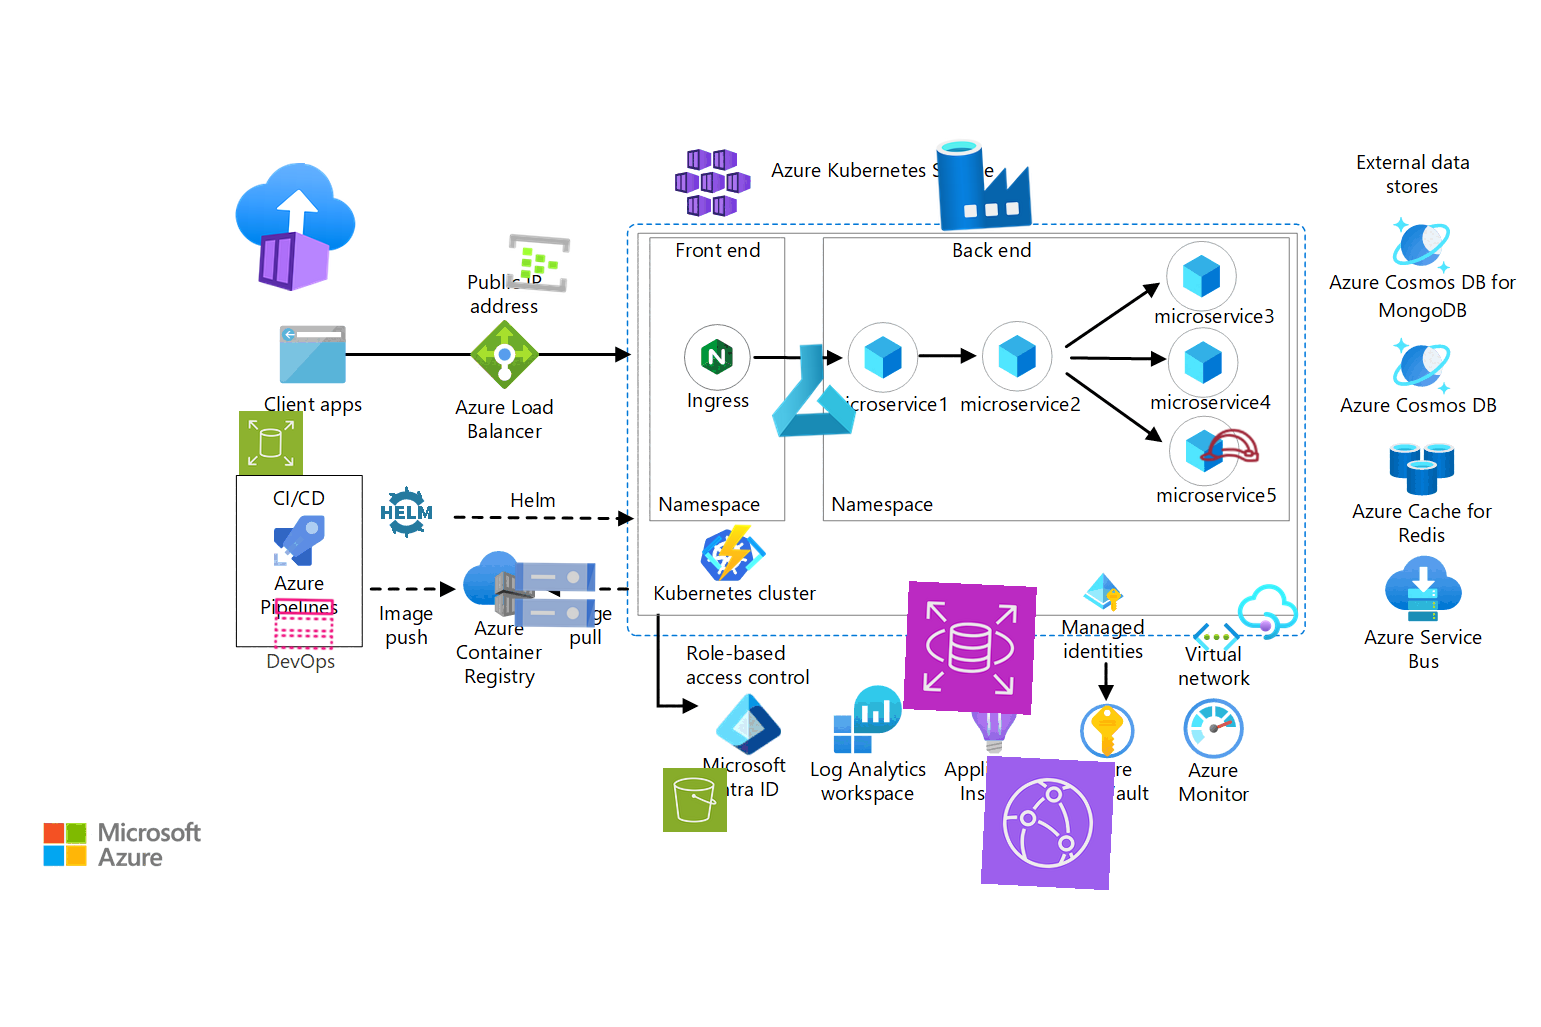aws_amazon_cloudfront: (980, 755, 1116, 891)
aws_amazon_elastic_block_store: (238, 410, 304, 476)
aws_amazon_rds: (903, 581, 1037, 715)
aws_amazon_simple_storage_service: (662, 767, 728, 833)
aws_identity_access_management_role: (1196, 411, 1264, 480)
aws_simple_notification_service_topic: (272, 591, 337, 657)
azure_api_management_services: (1235, 579, 1302, 645)
azure_container_instances: (227, 159, 363, 295)
azure_data_factories: (933, 132, 1035, 234)
azure_event_hubs: (503, 228, 573, 298)
azure_function_apps: (701, 520, 766, 586)
azure_machine_learning: (762, 339, 864, 441)
gcp_cloud_storage: (506, 546, 604, 644)
